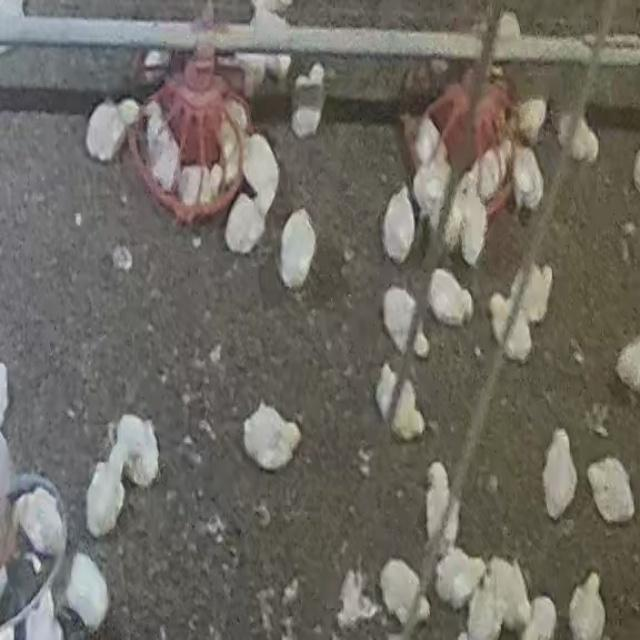chicken: (236, 400, 308, 471), (374, 362, 424, 439), (62, 554, 114, 628), (486, 290, 534, 366), (85, 456, 127, 538), (241, 133, 281, 218), (114, 415, 160, 488), (378, 556, 428, 623), (542, 429, 578, 521), (85, 99, 136, 163), (425, 465, 463, 550), (586, 456, 633, 524), (281, 208, 317, 294), (17, 493, 67, 553), (428, 266, 476, 328), (382, 284, 422, 356), (381, 186, 417, 263), (224, 192, 267, 255), (290, 63, 326, 137), (435, 546, 486, 596), (459, 188, 489, 269), (517, 263, 554, 326), (512, 145, 546, 213), (558, 109, 600, 160), (176, 165, 226, 199), (151, 136, 181, 192), (414, 112, 443, 166), (518, 89, 553, 132)
